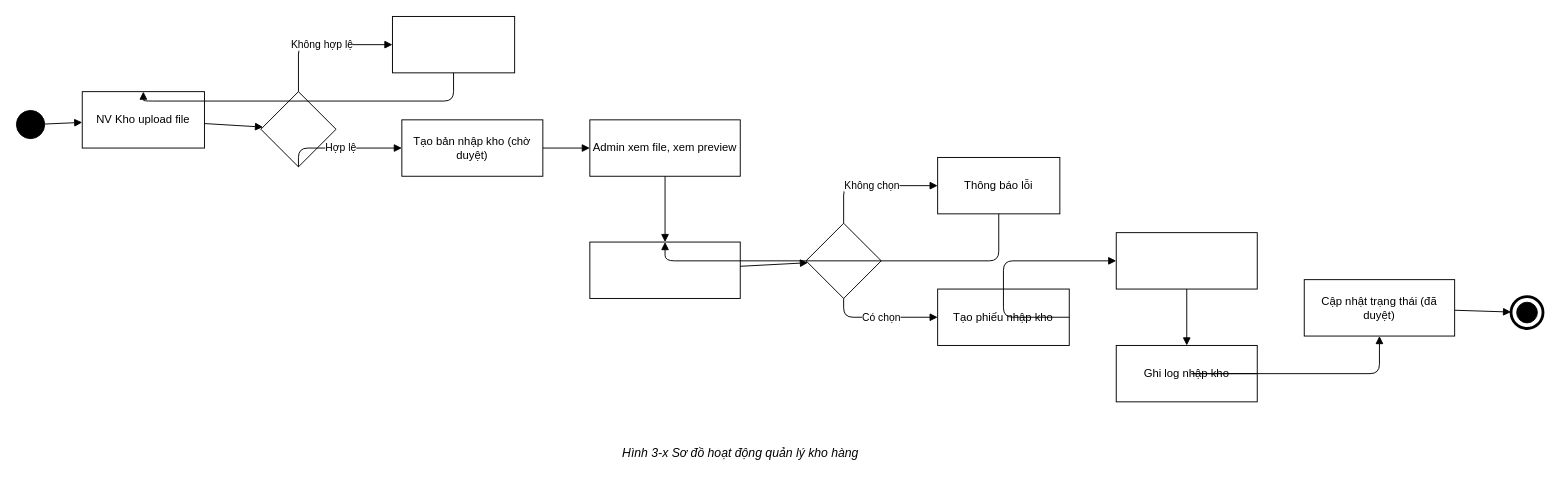
The diagram is 1560 pixels wide and 484 high, and some of its shapes have lost their labels. Each missing label, with the box of its shape:
Thông báo lỗi file: (392, 16, 515, 73)
Tick chọn SP: (589, 241, 740, 298)
Tăng số lượng tồn kho: (1115, 232, 1257, 289)
